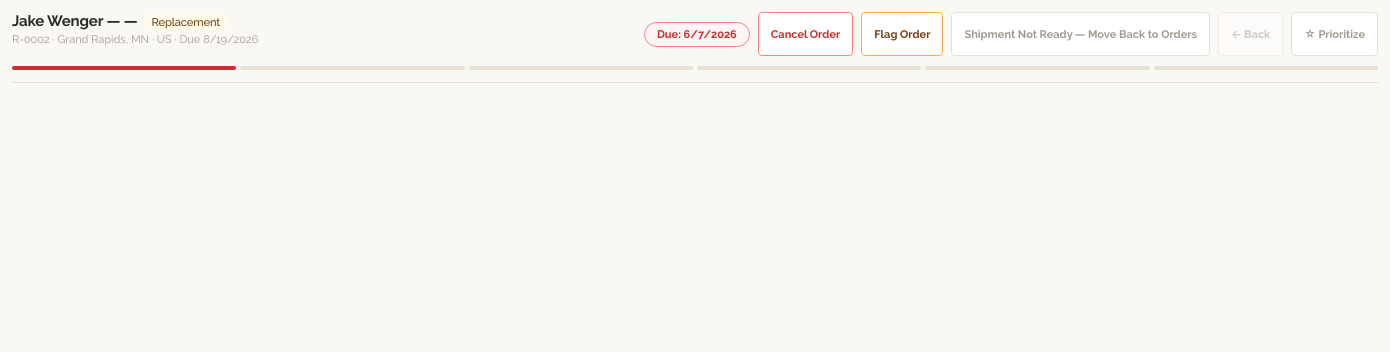
Scenario: Flag Order › tells a replacement’s operator it stays listed in Replacements
Click the button "Flag Order" at [902, 34], box [861,12,943,56]
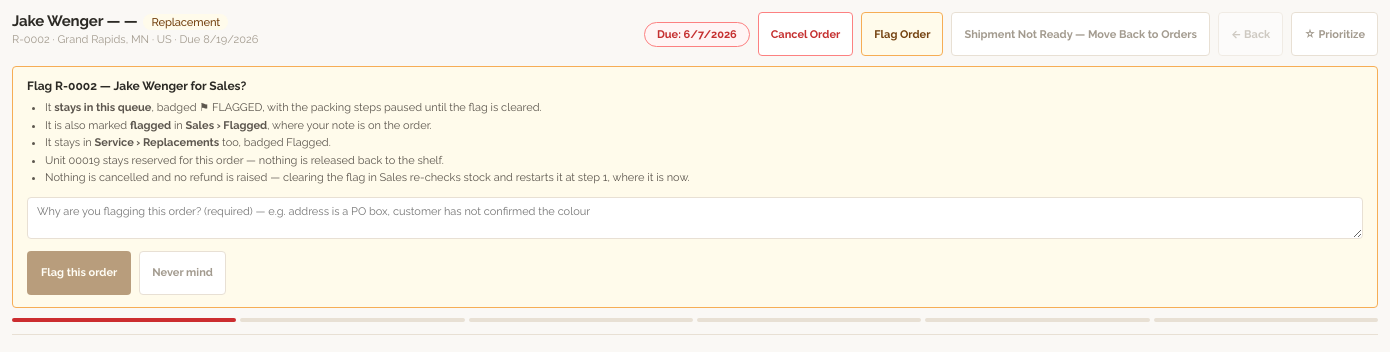
expect the text "Service › Replacements" is shown: met, box [94,136,219,149]
expect the list item "clearing the flag in Sales" is shown: met, box [283,171,603,184]
